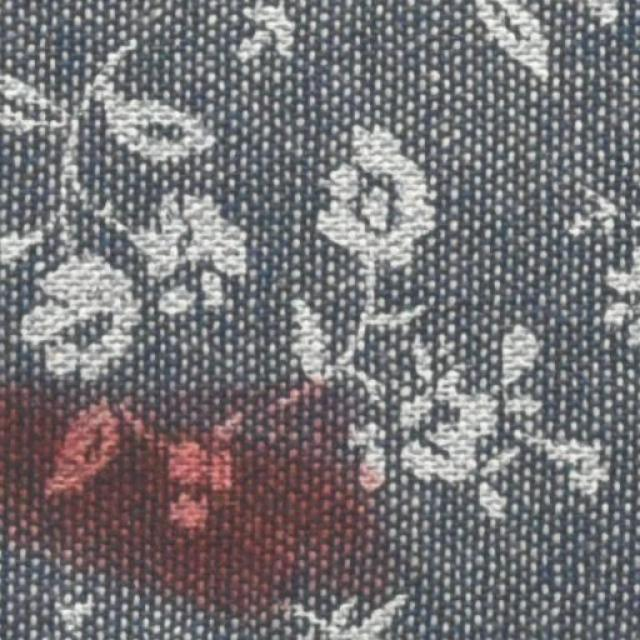Stain: (0, 372, 388, 626)
